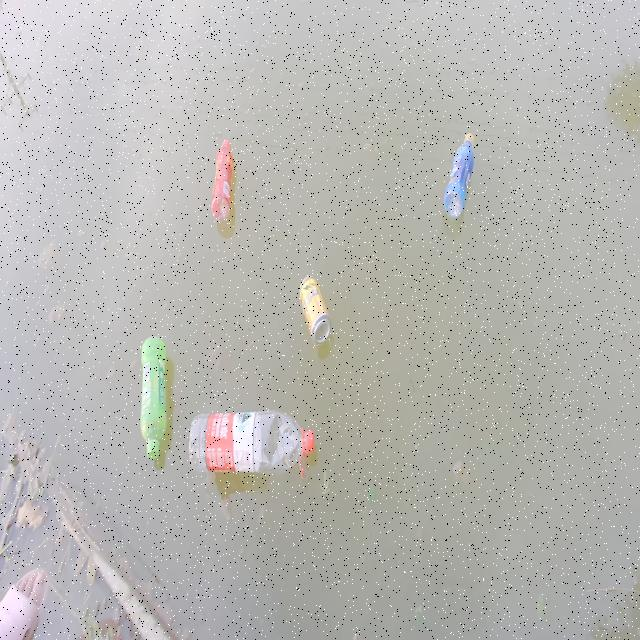Bottle: (186, 401, 319, 485), (136, 331, 170, 462), (442, 124, 477, 224), (208, 133, 238, 221)
Can: (296, 271, 336, 346)
